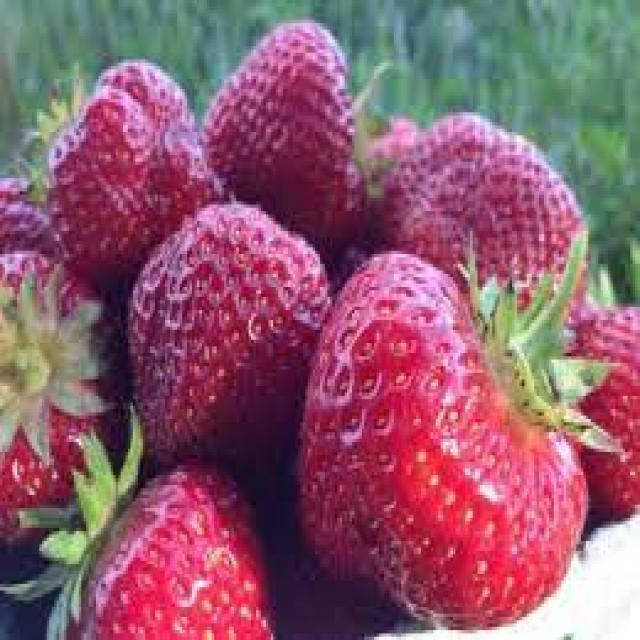Strawberry: (293, 224, 618, 630), (123, 198, 330, 478), (362, 108, 588, 326), (42, 56, 219, 284), (0, 248, 126, 554), (197, 16, 362, 248), (69, 458, 278, 636), (561, 300, 638, 528)
